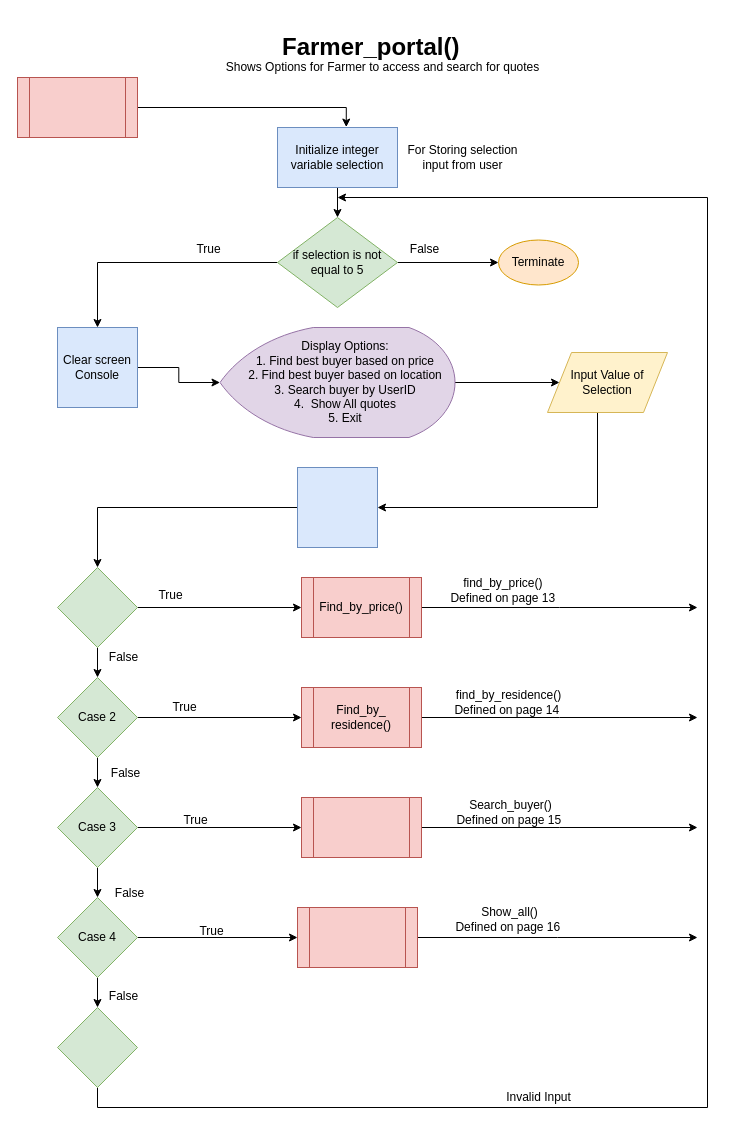
The diagram is 733 pixels wide and 1133 high, and some of its shapes have lost their labels. The shapes that lost their labels are listed below. From the top down, each one's centre as x and y in pixels, then its label:
the point at 77,107: Farmer_portal
the point at 337,507: Switch Selection
the point at 97,607: Case 1
the point at 361,827: Search_buyer()
the point at 357,937: Show_all()
the point at 97,1047: Case 5
